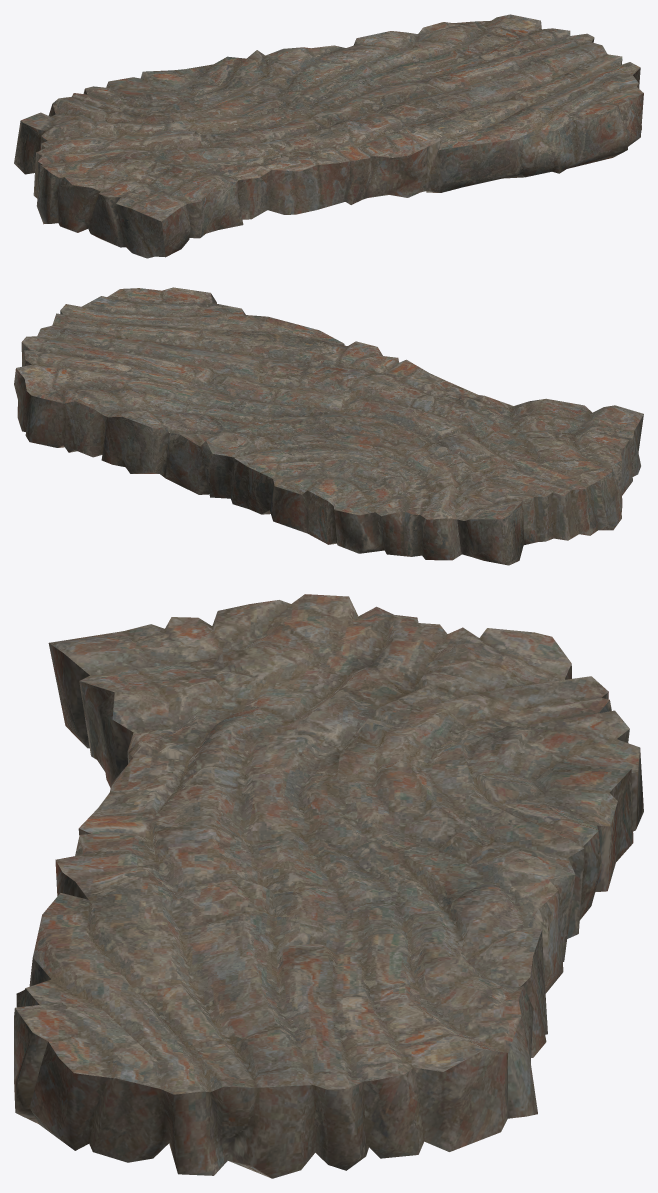
Rendered from bg_rad_kamen_rockfloor03d_sm.obj.
3 renders of one model, top to bottom at view 1: azimuth 30°, elevation 25°; view 2: azimuth 150°, elevation 25°; view 3: azimuth 270°, elevation 25°, orthographic. The views are drawn at different scales.
Visible parts, largest first — view 1: bg_rad_kamen_rockfloor03d_sm_0; view 2: bg_rad_kamen_rockfloor03d_sm_0; view 3: bg_rad_kamen_rockfloor03d_sm_0.
Part boxes in pixels (left/top/right/bottom): bg_rad_kamen_rockfloor03d_sm_0: left=14, top=14, right=643, bottom=258; bg_rad_kamen_rockfloor03d_sm_0: left=14, top=287, right=643, bottom=565; bg_rad_kamen_rockfloor03d_sm_0: left=14, top=594, right=643, bottom=1178.
Size of the model in its own units: 5.54 by 0.5498 by 2.95.
Materials: 1 (1 with a texture image).
